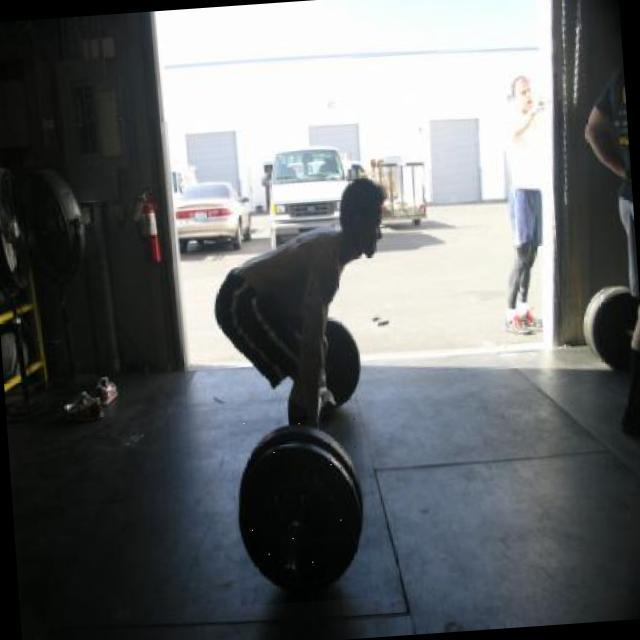barbell: (229, 413, 374, 608)
